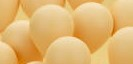Balloon: (72, 3, 114, 50), (30, 6, 72, 49), (43, 35, 90, 64), (109, 26, 133, 64)
